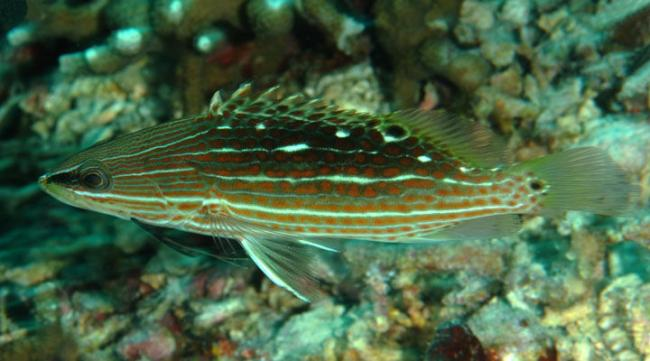fish: (35, 85, 633, 305)
